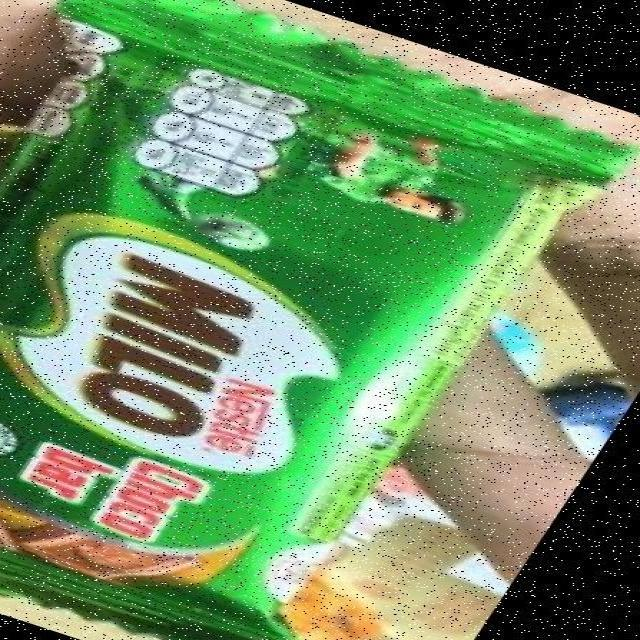Dry Waste: (0, 3, 319, 638), (318, 37, 628, 460)
